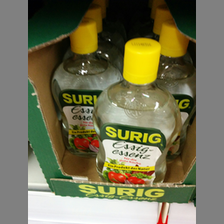vinegar: (95, 39, 178, 184), (52, 17, 123, 163)
